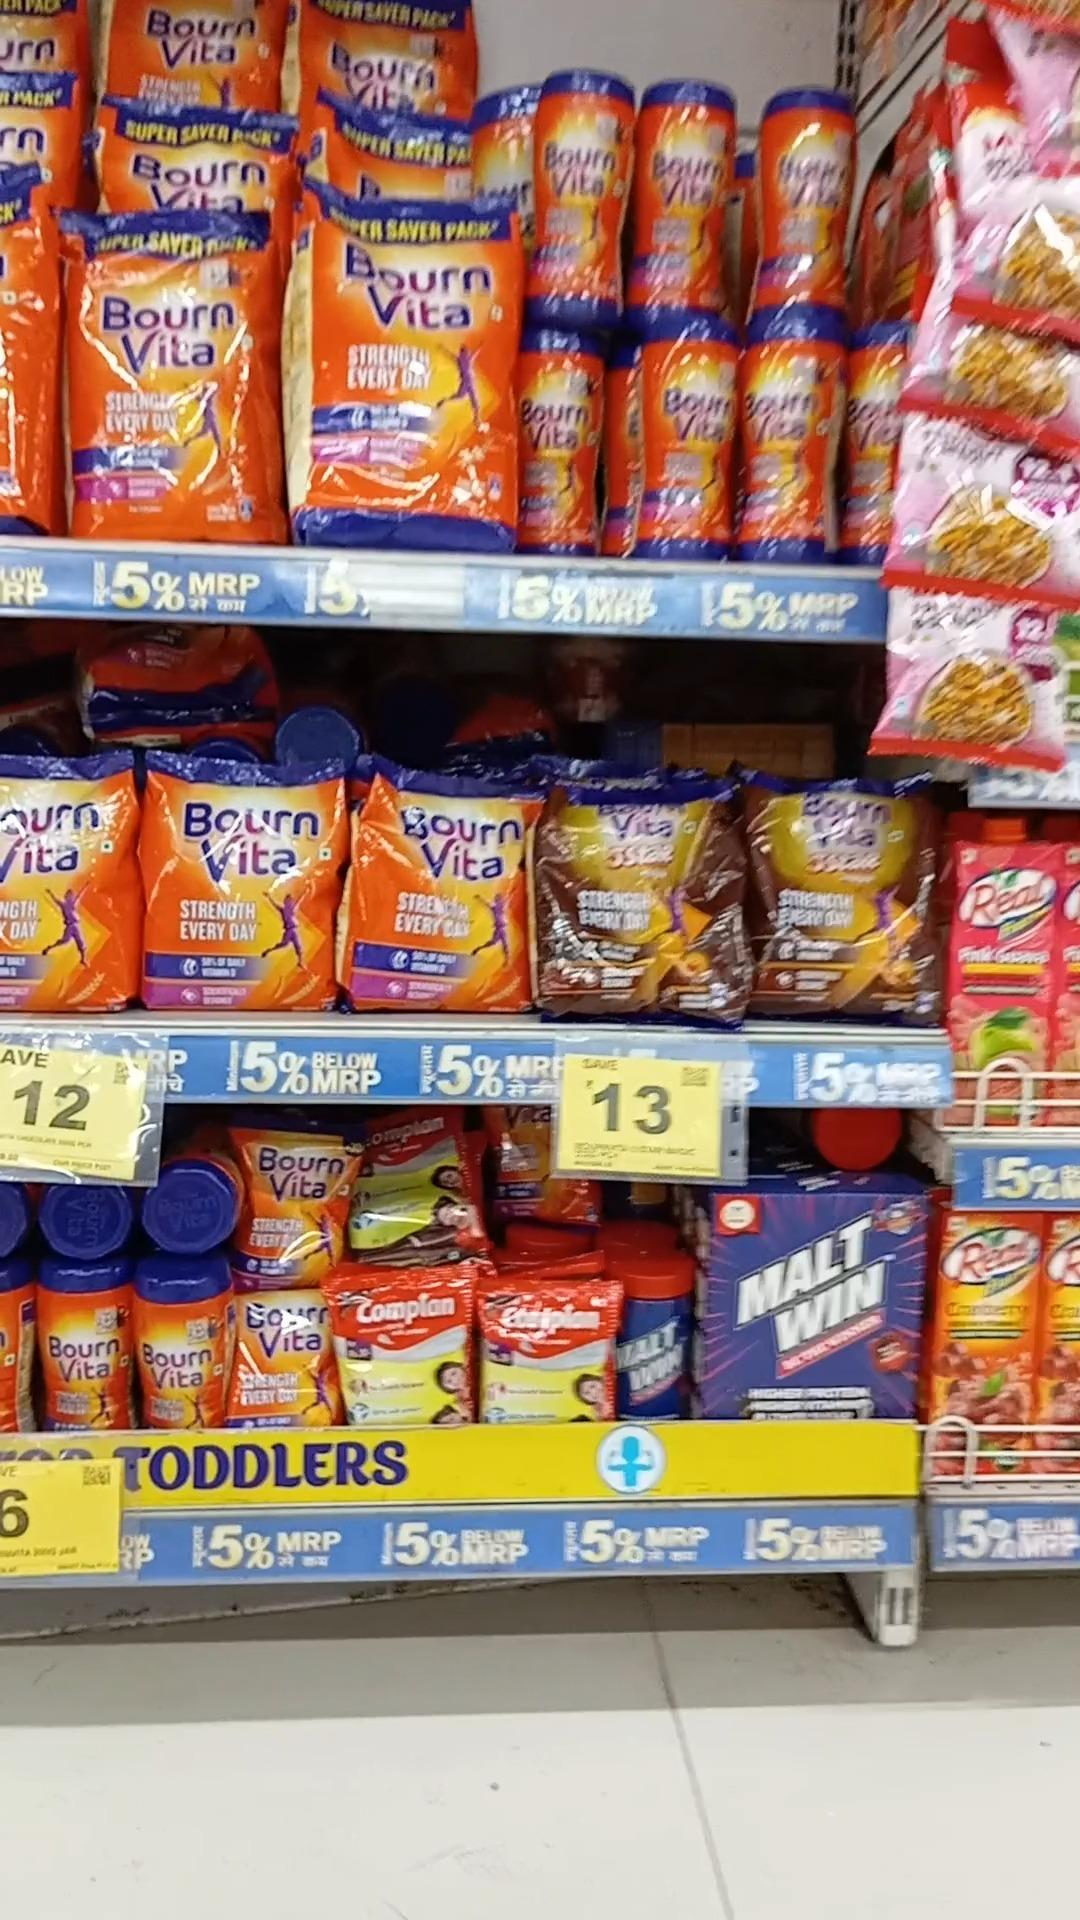BOURN_VITA_1_KG_POUCH: (293, 190, 510, 546), (62, 206, 276, 539)
BOURN_VITA_200_G_JAR: (136, 1257, 227, 1429), (41, 1263, 129, 1428)
BOURN_VITA_500_G_JAR: (742, 307, 843, 560), (632, 80, 737, 319), (535, 73, 632, 327), (633, 322, 729, 559), (754, 90, 856, 303), (521, 328, 601, 553)
BOURN_VITA_500_G_POUCH: (145, 753, 336, 1010), (347, 754, 525, 1010), (0, 752, 142, 1015)
BOURN_VITA_FIVE_STAR_MAGIC_500_G_POUCH: (538, 778, 744, 1019), (752, 766, 943, 1021)
